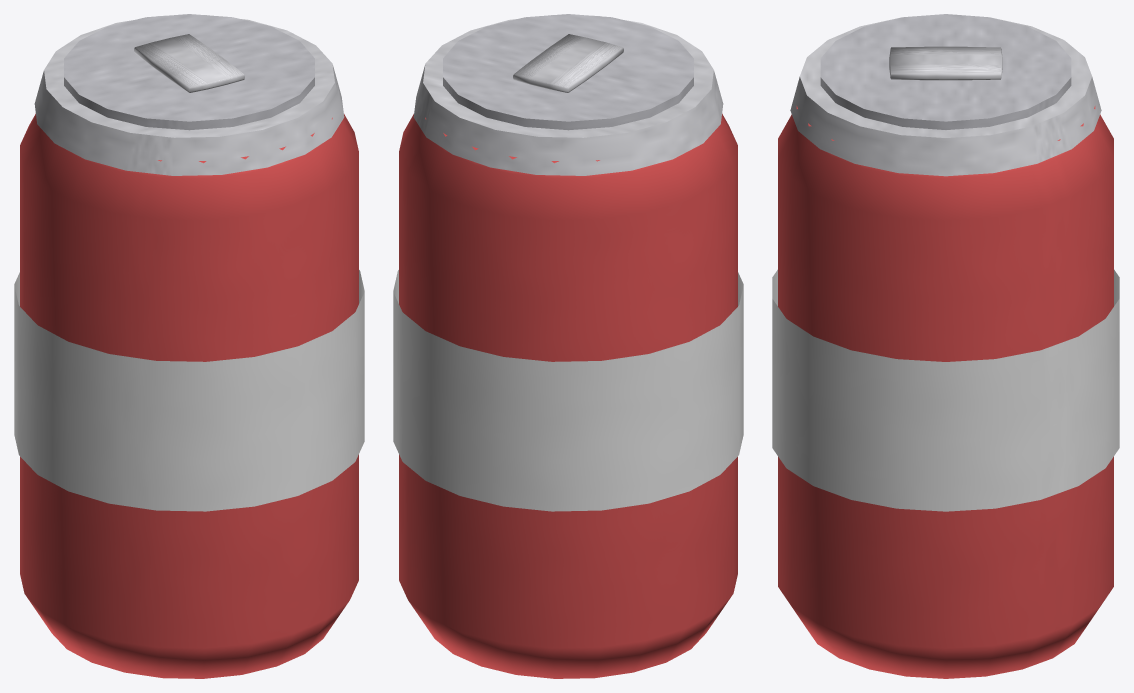
Rendered from soda.glb.
3 renders of one model, left to right at view 1: azimuth 30°, elevation 25°; view 2: azimuth 150°, elevation 25°; view 3: azimuth 270°, elevation 25°, orthographic.
Parts seen in each view (by area): view 1: soda_body; view 2: soda_body; view 3: soda_body.
Boxes of the visible parts, <box> form: soda_body: <box>14,14,364,678</box>; soda_body: <box>393,14,743,678</box>; soda_body: <box>772,14,1119,678</box>.
Size of the model in its own units: 0.0744 by 0.131 by 0.0736.
4 materials, 4 textured.
